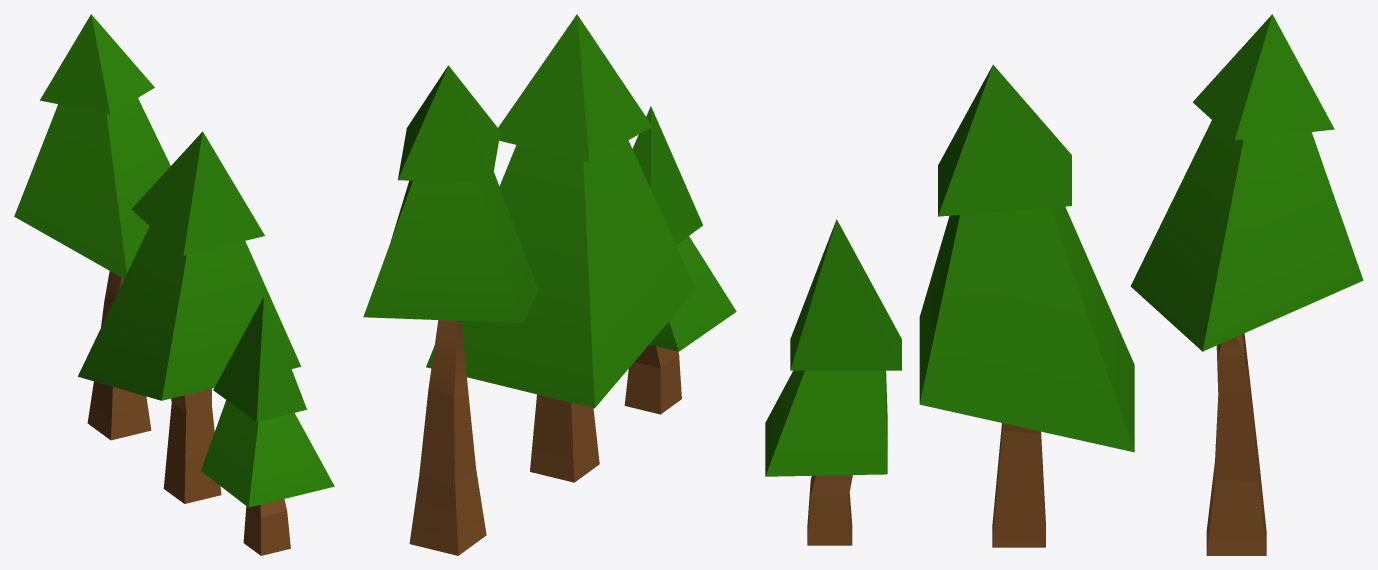
Rendered from Trees_MQ.fbx.
3 views of the same model, side by side, from view 1: azimuth 30°, elevation 25°; view 2: azimuth 150°, elevation 25°; view 3: azimuth 270°, elevation 25° (orthographic). The views are drawn at different scales.
Visible parts, largest first — view 1: tree mid.002, tree big.002, tree smol.002; view 2: tree mid.002, tree big.002, tree smol.002; view 3: tree mid.002, tree big.002, tree smol.002.
Part boxes in pixels (box(x1,y1,x2,y2)): tree mid.002: box(78, 131, 300, 503); tree big.002: box(14, 14, 170, 440); tree smol.002: box(201, 297, 334, 555); tree mid.002: box(426, 14, 695, 482); tree big.002: box(363, 65, 537, 555); tree smol.002: box(624, 106, 736, 414); tree mid.002: box(919, 64, 1134, 547); tree big.002: box(1130, 14, 1363, 555); tree smol.002: box(765, 219, 901, 545).
Bounding box in the file's own units: 2.19 × 5.7 × 5.47.
Materials: 1 (1 with a texture image).
